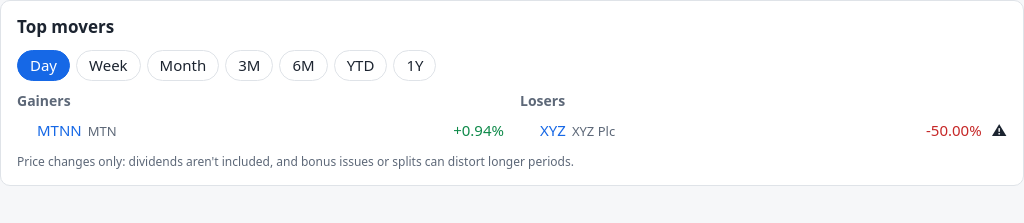
Test: MoversPanel › switches horizons and explains empty lists
Expected: the link "MTNN" is shown, [37,120,82,142]
Expected: the text titled "bonus issue or split" is shown, [992,120,1007,142]
Click the tab "Week".
click(108, 66)  # box [76,50,141,81]
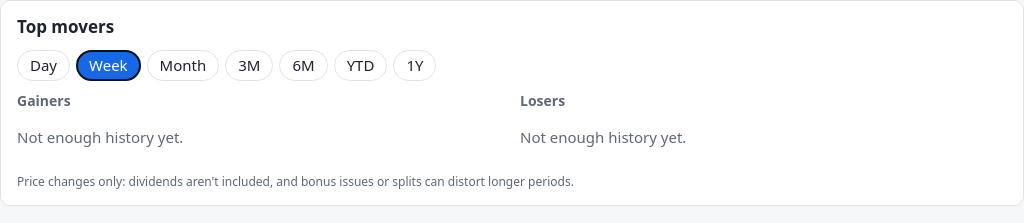
Now the link "MTNN" is gone
Now the text "Not enough history yet." is shown 2 times, box [17,127,183,147]; [520,127,686,147]
